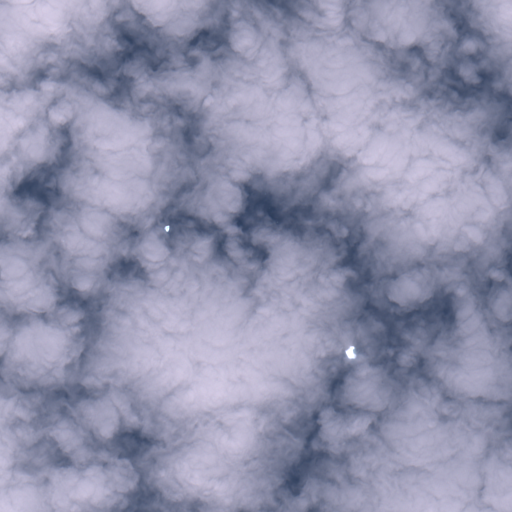Iceberg: (345, 346, 355, 358), (164, 224, 169, 231)
